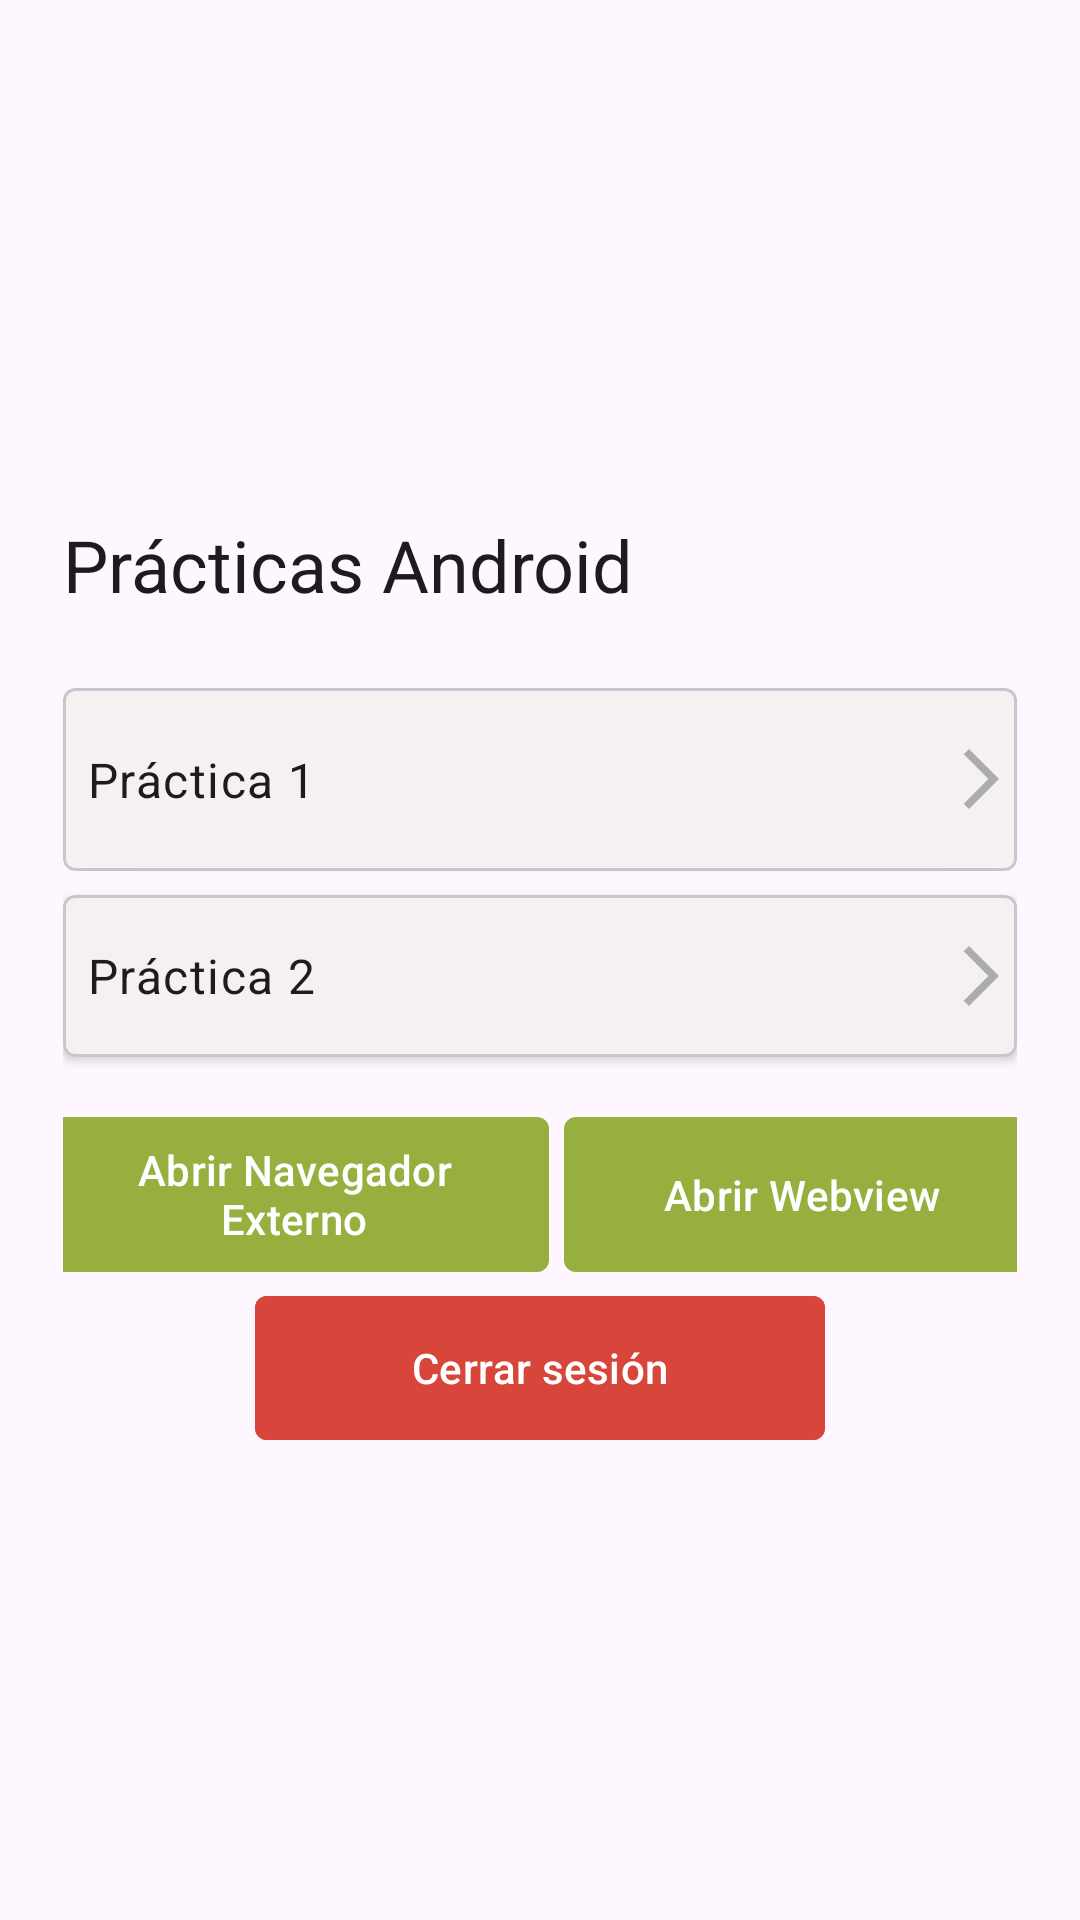

Where to tap for icons on this 1080x1920 app screen, as [x,y]:
arrow rigth: [981,779], [981,976]
